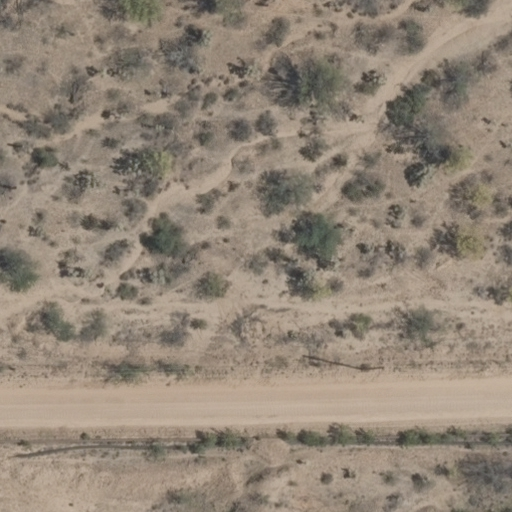DT: (351, 357, 390, 379)
